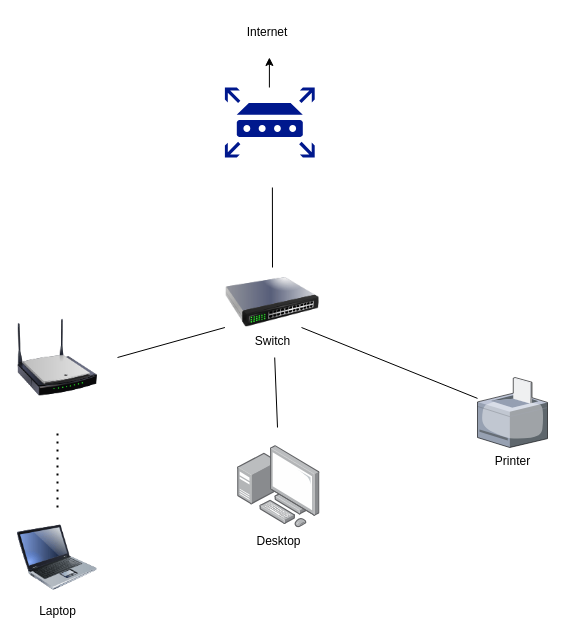
Image size: 564x635. Some labels were removed from this diagram. The box of each missing label's shape, as (x1, y1, x2, y2) in pixels:
Router: (224, 87, 314, 157)
WAP: (17, 317, 97, 397)
